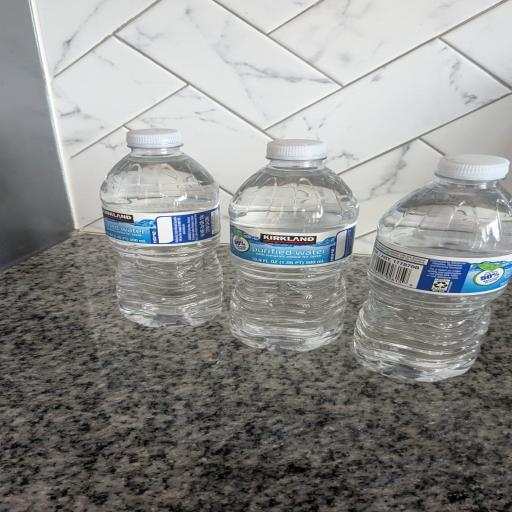waterbottle: (353, 155, 511, 381), (230, 140, 358, 351), (101, 129, 222, 326)
